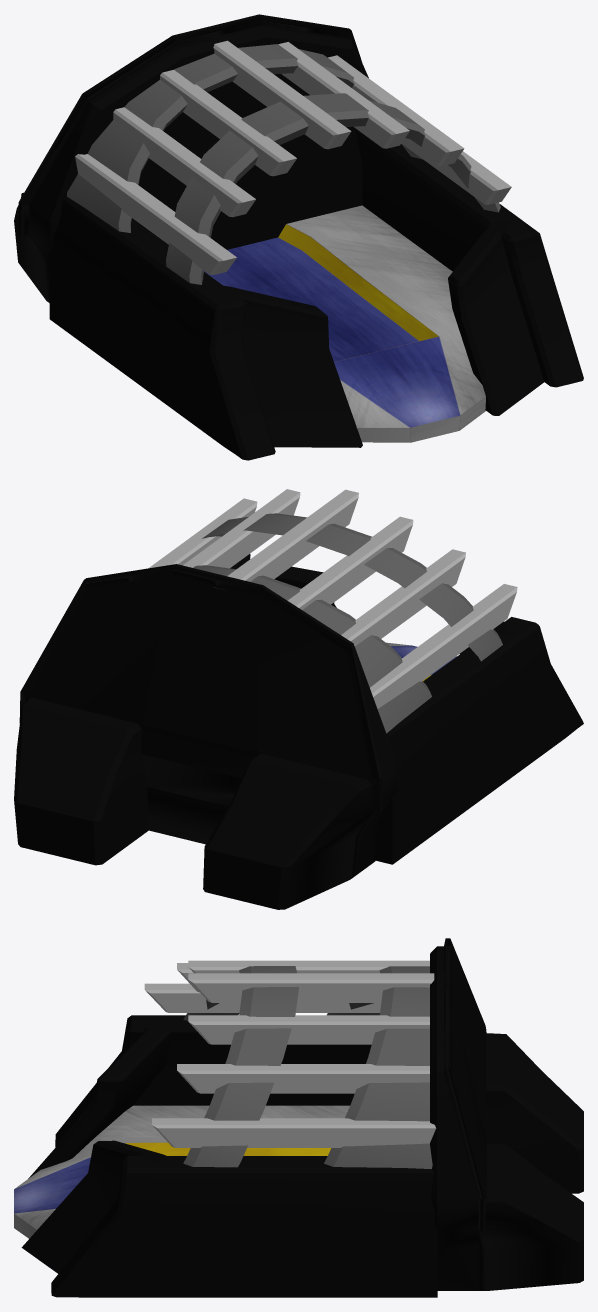
File: ConstructionYard2.fbx
The picture shows the model from 3 angles, top to bottom: view 1: azimuth 30°, elevation 25°; view 2: azimuth 150°, elevation 25°; view 3: azimuth 270°, elevation 25°; orthographic projection.
Parts seen in each view (by area): view 1: polySurface415, polySurface406, polySurface414, polySurface404, polySurface402; view 2: polySurface404, polySurface406, polySurface415, polySurface402; view 3: polySurface402, polySurface406, polySurface404, polySurface415, polySurface414.
Boxes of the visible parts, box(x1,y1,x2,y2) form: polySurface415: box(49, 197, 362, 460); polySurface406: box(67, 40, 511, 284); polySurface414: box(204, 205, 485, 442); polySurface404: box(14, 14, 368, 302); polySurface402: box(355, 129, 583, 415); polySurface404: box(14, 564, 396, 909); polySurface406: box(149, 489, 517, 733); polySurface415: box(373, 617, 583, 864); polySurface402: box(230, 554, 336, 607); polySurface402: box(21, 1140, 437, 1297); polySurface406: box(144, 960, 436, 1168); polySurface404: box(430, 938, 583, 1290); polySurface415: box(28, 1015, 371, 1178); polySurface414: box(14, 1105, 349, 1238).
Size of the model in its own units: 22.9 by 15.81 by 31.64.
